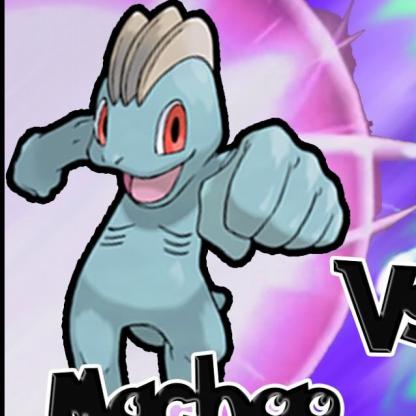Machop: (10, 1, 352, 389)
